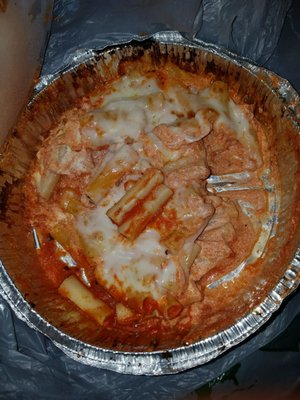sandwich: (0, 37, 300, 362)
